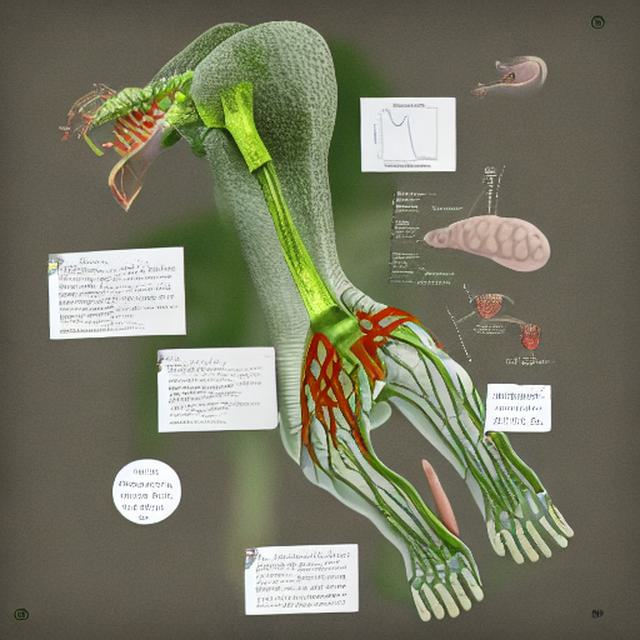Graph: (363, 99, 453, 167)
